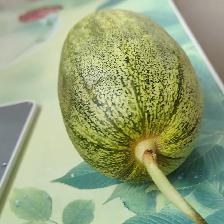gua: (79, 29, 183, 172)
